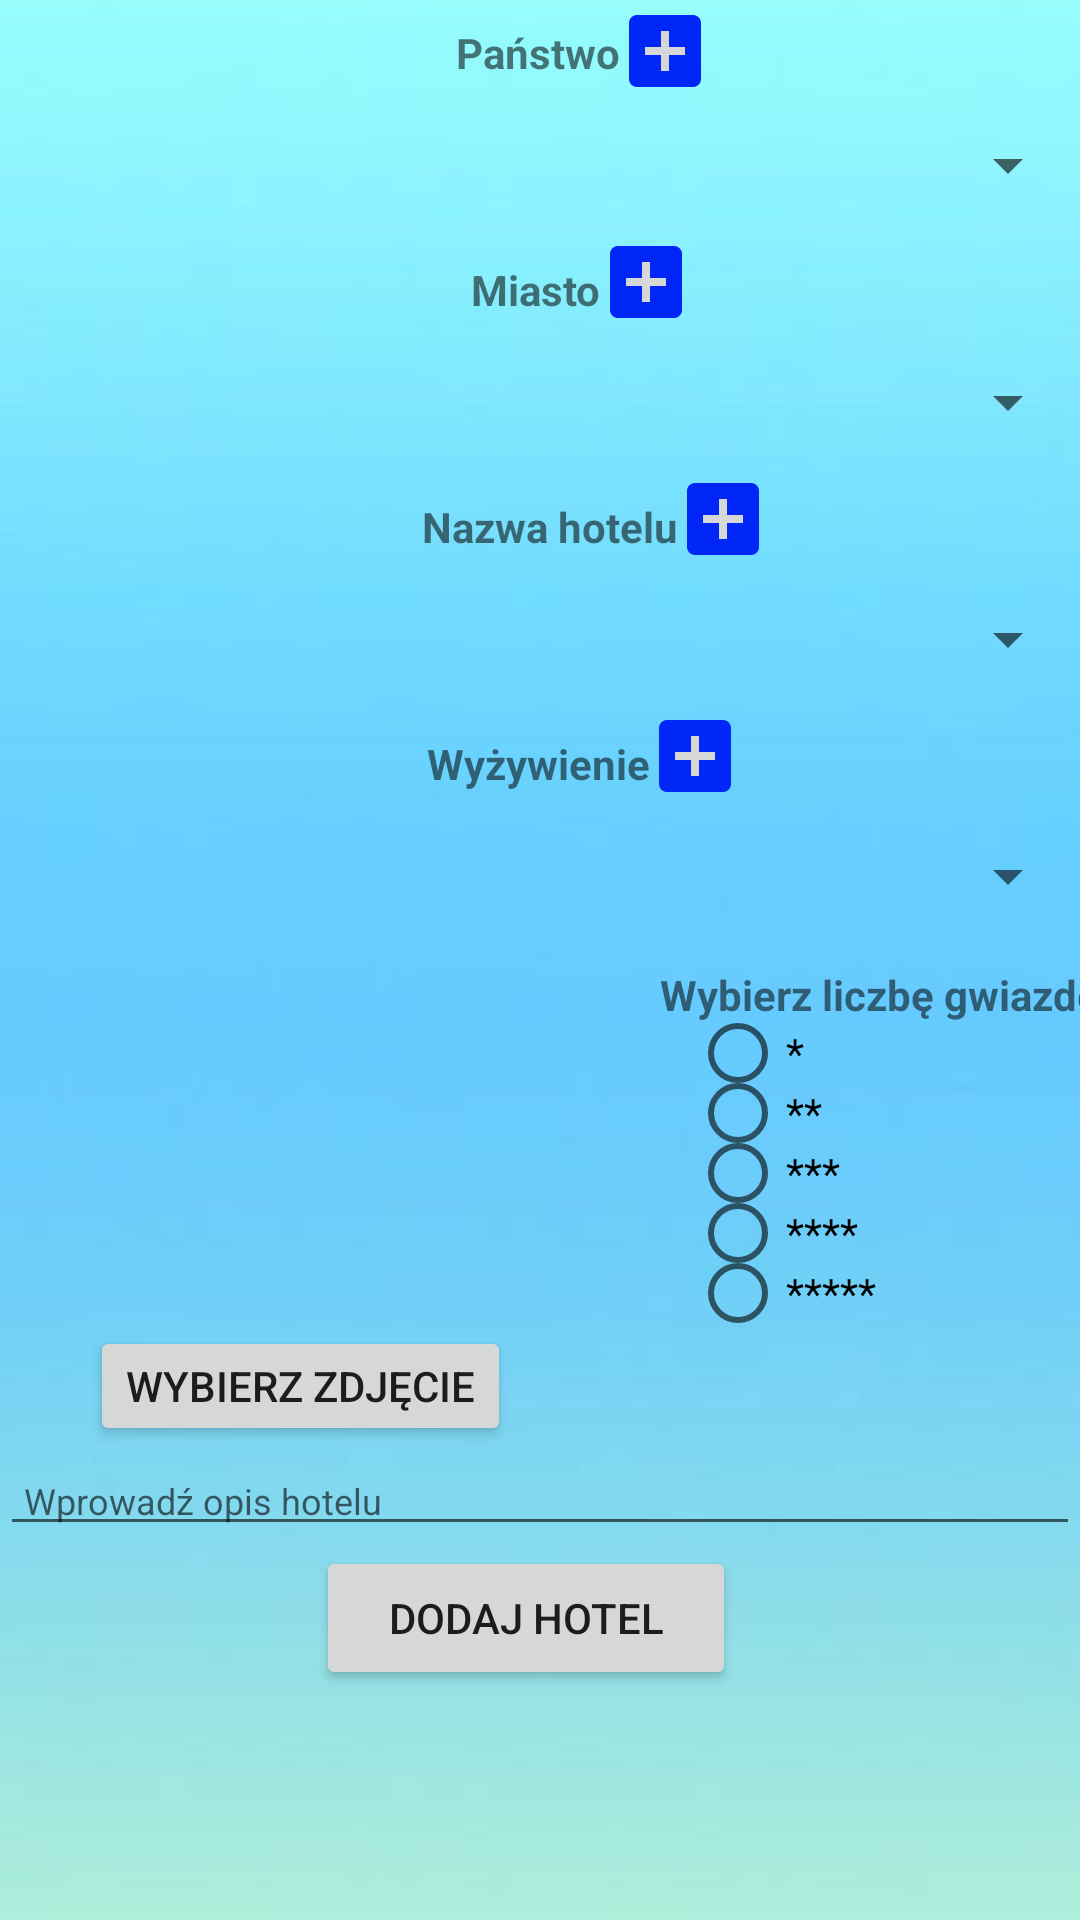

Locate icon controls on the screen. Image size 1080x1920, boxes as (x1=x1, y1=y1, x2=x2, y2=y2).
add box: (x1=629, y1=15, x2=701, y2=87), (x1=610, y1=246, x2=682, y2=318), (x1=687, y1=483, x2=759, y2=555), (x1=659, y1=720, x2=731, y2=792)
